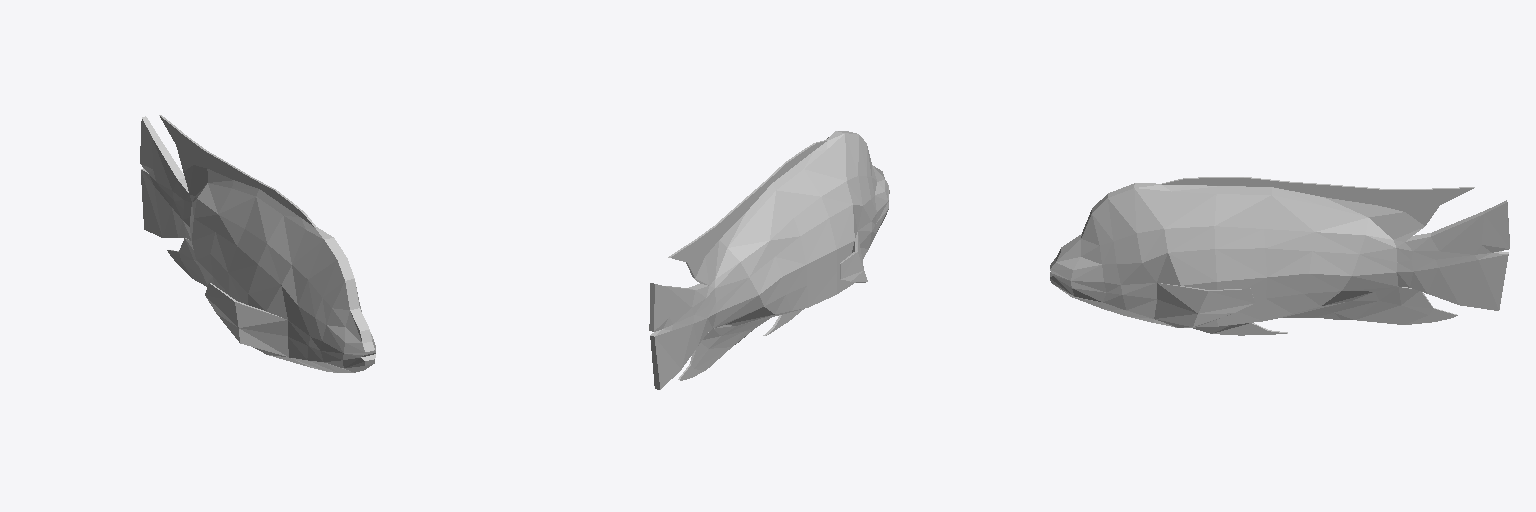
Rendered from fish9.obj.
The picture shows the model from 3 angles: view 1: azimuth 30°, elevation 25°; view 2: azimuth 150°, elevation 25°; view 3: azimuth 270°, elevation 25°; orthographic projection.
Parts seen in each view (by area): view 1: TropicalFish09:TropicalFish09; view 2: TropicalFish09:TropicalFish09; view 3: TropicalFish09:TropicalFish09.
Part boxes in pixels (left/top/right/bottom): TropicalFish09:TropicalFish09: left=140, top=115, right=375, bottom=372; TropicalFish09:TropicalFish09: left=649, top=131, right=889, bottom=389; TropicalFish09:TropicalFish09: left=1050, top=177, right=1509, bottom=335.
Size of the model in its own units: 1.96 by 2.41 by 6.34.